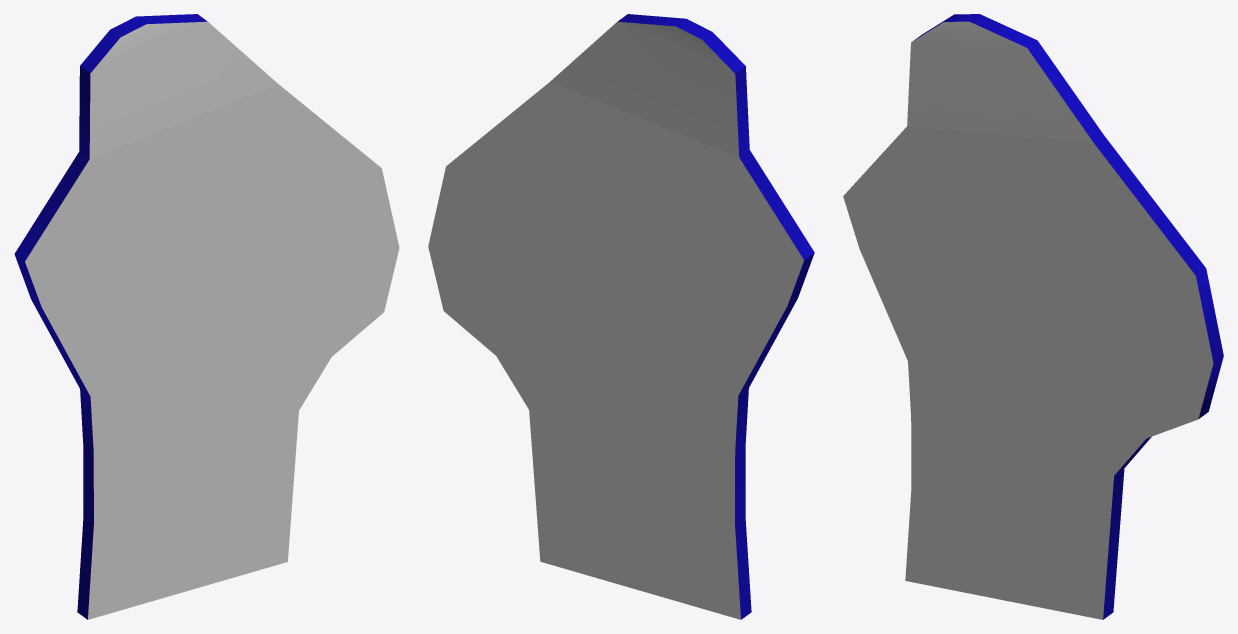
File: skeleton.fbx
3 renders of one model, left to right at view 1: azimuth 30°, elevation 25°; view 2: azimuth 150°, elevation 25°; view 3: azimuth 330°, elevation 25°, orthographic.
Visible parts, largest first — view 1: Box005; view 2: Box005; view 3: Box005.
Boxes of the visible parts, bbox=[...] form: Box005: bbox=[14, 14, 399, 619]; Box005: bbox=[428, 14, 814, 619]; Box005: bbox=[843, 14, 1223, 619].
Size of the model in its own units: 43.71 by 64.5 by 2.74.
